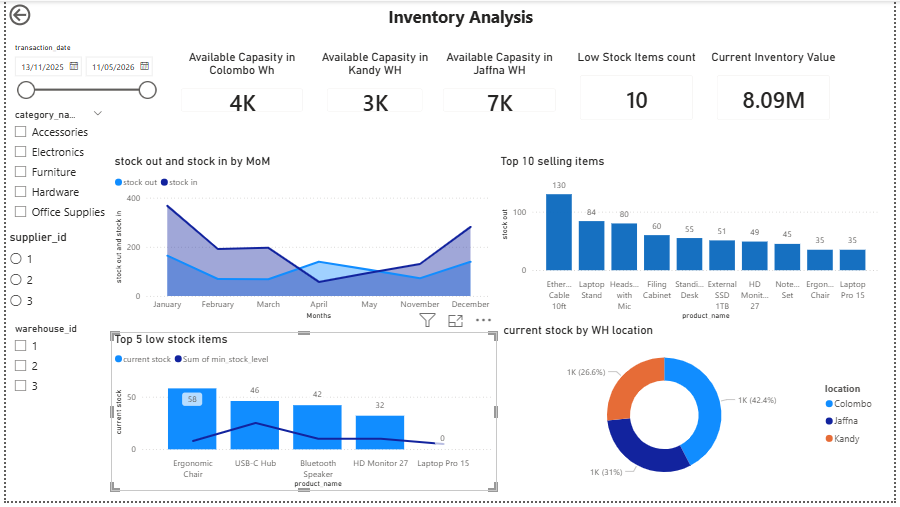

The dashboard page shown, as its layout file describes it:
{"tool":"powerbi","page":{"name":"Page 1","canvas":[1280,720],"ordinal":0},"visuals":[{"type":"donutChart","title":"current stock by WH location","fields":{"Category":["ims warehouses.location"],"Y":["ims categories.current stock"]},"box":[711.4,463.7,550.1,243.4],"z":0},{"type":"listSlicer","fields":{"Values":["ims products.supplier_id"]},"box":[0,329.8,151.2,126.7],"z":1000},{"type":"slicer","fields":{"Values":["ims categories.category_name"]},"box":[0,149.8,151.2,180],"z":2000},{"type":"actionButton","box":[0,0,100,40],"z":3000},{"type":"slicer","fields":{"Values":["ims warehouses.warehouse_id"]},"box":[0,457.9,151.2,149.8],"z":4000},{"type":"columnChart","title":"Top 10 selling items","fields":{"Category":["ims products.product_name"],"Y":["ims categories.stock out"]},"box":[706.7,220,555,243.3],"z":5000},{"type":"lineChart","title":"stock out and stock in by MoM","fields":{"Category":["ims stock_transactions.transaction_date.Variation.Date Hierarchy.Month"],"Y":["ims categories.stock out","ims categories.stock in"]},"box":[151.2,220.3,555.8,243.4],"z":6000},{"type":"lineStackedColumnComboChart","title":"Top 5 low stock items","fields":{"Category":["ims products.product_name"],"Y2":["Sum(ims products.min_stock_level)"],"Y":["ims categories.current stock"]},"box":[151.2,476.6,555.8,229],"z":7000},{"type":"textbox","box":[377.3,0,554.4,56.2],"z":8000},{"type":"cardVisual","title":"Available Capasity in Colombo Wh","fields":{"Data":["ims categories.Current available capacity"]},"box":[234.7,70.6,210.2,106.6],"z":9000},{"type":"cardVisual","title":"Available Capasity in Kandy WH","fields":{"Data":["ims categories.Current available capacity"]},"box":[445,70.6,172.8,106.6],"z":10000},{"type":"cardVisual","title":" Available Capasity in Jaffna WH","fields":{"Data":["ims categories.Current available capacity"]},"box":[612,70.6,197.3,106.6],"z":11000},{"type":"slicer","fields":{"Values":["ims stock_transactions.transaction_date"]},"box":[0,56.2,224.6,93.6],"z":12000},{"type":"cardVisual","title":"Low Stock Items count","fields":{"Data":["ims categories.Low stock count"]},"box":[809.3,70.6,197.3,118.1],"z":13000},{"type":"cardVisual","title":"Current Inventory Value","fields":{"Data":["ims categories.Inv Value"]},"box":[1006.6,70.6,197.3,118.1],"z":14000}]}

Visuals, with their boxes in screenshot pixels (x1, y1, x2, y2), scaled from the page's 1280x720 canvas onto the 900x507 screenshot:
"current stock by WH location" donutChart: BBox(500, 327, 887, 498)
listSlicer - ims products.supplier_id: BBox(0, 232, 106, 321)
slicer - ims categories.category_name: BBox(0, 105, 106, 232)
actionButton: BBox(0, 0, 70, 28)
slicer - ims warehouses.warehouse_id: BBox(0, 322, 106, 428)
"Top 10 selling items" columnChart: BBox(497, 155, 887, 326)
"stock out and stock in by MoM" lineChart: BBox(106, 155, 497, 327)
"Top 5 low stock items" lineStackedColumnComboChart: BBox(106, 336, 497, 497)
textbox: BBox(265, 0, 655, 40)
"Available Capasity in Colombo Wh" cardVisual: BBox(165, 50, 313, 125)
"Available Capasity in Kandy WH" cardVisual: BBox(313, 50, 434, 125)
" Available Capasity in Jaffna WH" cardVisual: BBox(430, 50, 569, 125)
slicer - ims stock_transactions.transaction_date: BBox(0, 40, 158, 105)
"Low Stock Items count" cardVisual: BBox(569, 50, 708, 133)
"Current Inventory Value" cardVisual: BBox(708, 50, 846, 133)
